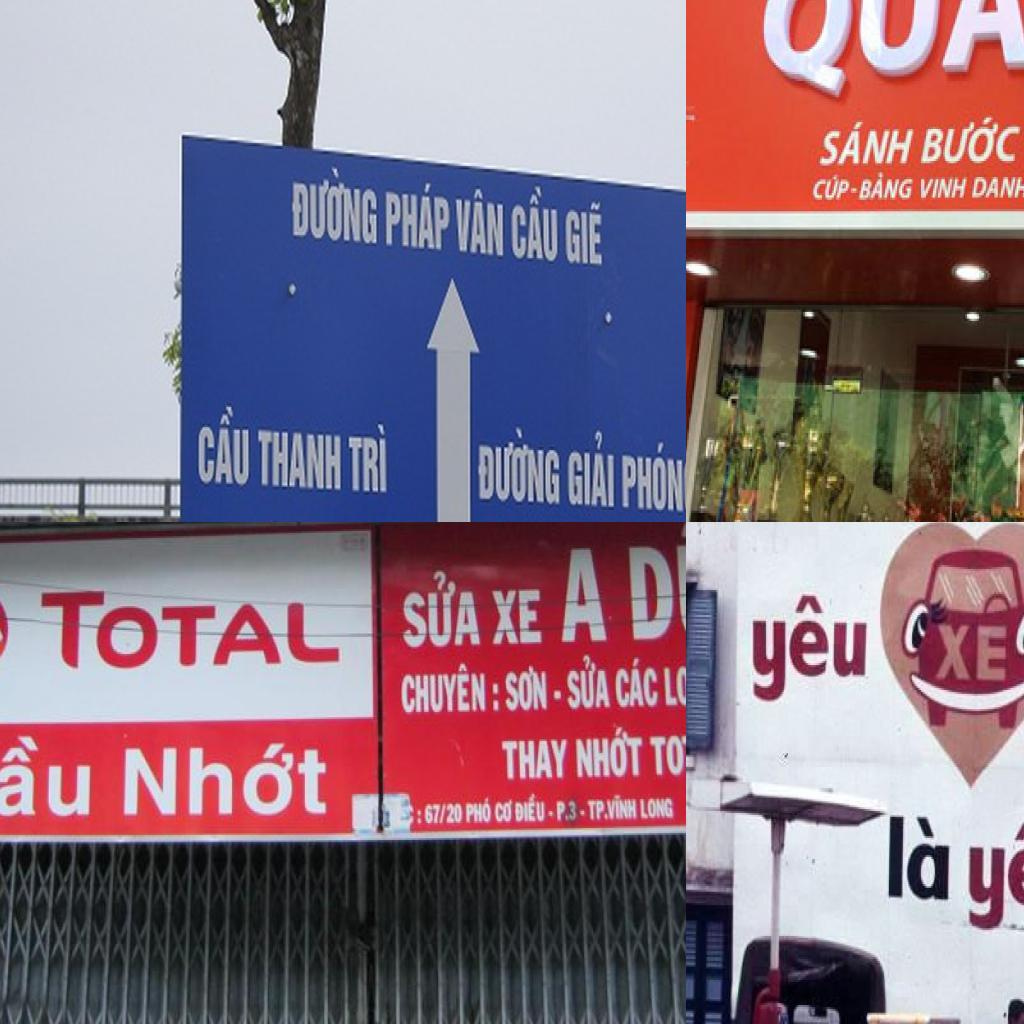text: (36, 582, 350, 673), (760, 0, 1024, 104), (120, 731, 340, 823), (750, 588, 874, 709), (0, 725, 99, 831), (622, 522, 686, 645), (291, 163, 380, 249), (476, 424, 562, 510), (397, 567, 483, 652), (965, 819, 1024, 936), (885, 811, 953, 907), (919, 108, 1024, 170), (255, 426, 344, 494), (400, 662, 502, 719), (814, 115, 918, 168), (558, 545, 612, 645), (384, 180, 453, 256), (196, 401, 253, 491), (934, 623, 1010, 688), (510, 180, 561, 269), (574, 724, 645, 784), (566, 428, 616, 512), (454, 186, 506, 263), (498, 734, 572, 787), (487, 582, 543, 647), (348, 420, 390, 498), (564, 198, 606, 272), (564, 651, 614, 712), (614, 656, 660, 710), (505, 666, 552, 715), (859, 172, 916, 204), (968, 172, 1024, 204), (648, 732, 686, 778), (920, 174, 970, 206), (662, 660, 686, 717), (422, 799, 464, 828), (813, 172, 851, 204), (606, 792, 640, 826), (515, 794, 549, 825), (640, 797, 676, 823), (464, 796, 494, 826), (556, 796, 581, 824), (585, 797, 610, 823), (496, 797, 518, 825)
